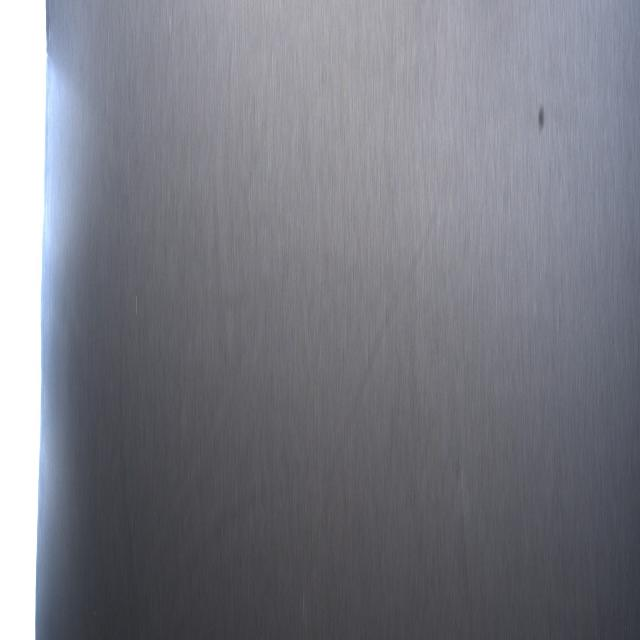crease: (302, 193, 436, 607), (155, 348, 251, 552), (179, 478, 268, 609), (118, 284, 146, 632)
